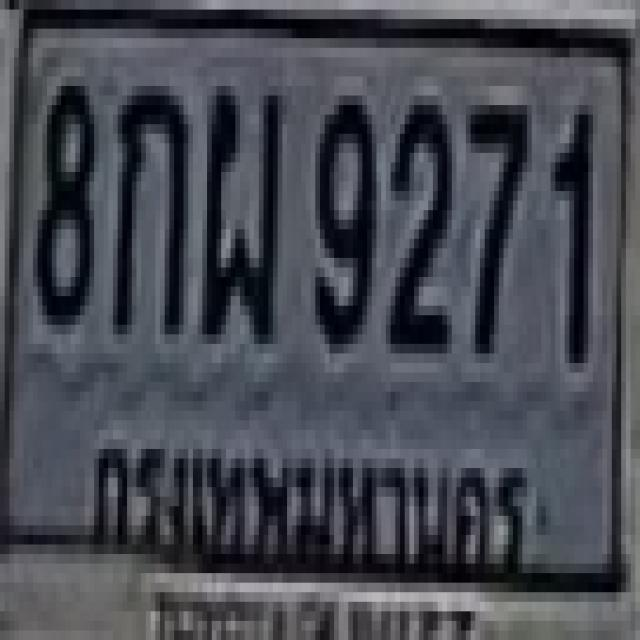1: (551, 100, 588, 358)
2: (386, 95, 447, 344)
7: (466, 100, 522, 349)
8: (33, 77, 94, 316)
9: (310, 86, 372, 344)
A01: (108, 76, 184, 325)
A28: (200, 76, 280, 334)
BKK: (84, 415, 538, 594)
